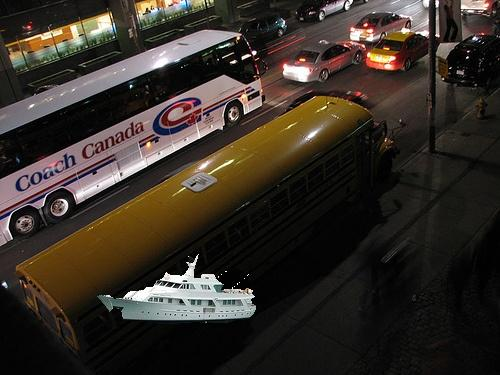tampered: (98, 255, 256, 324)
